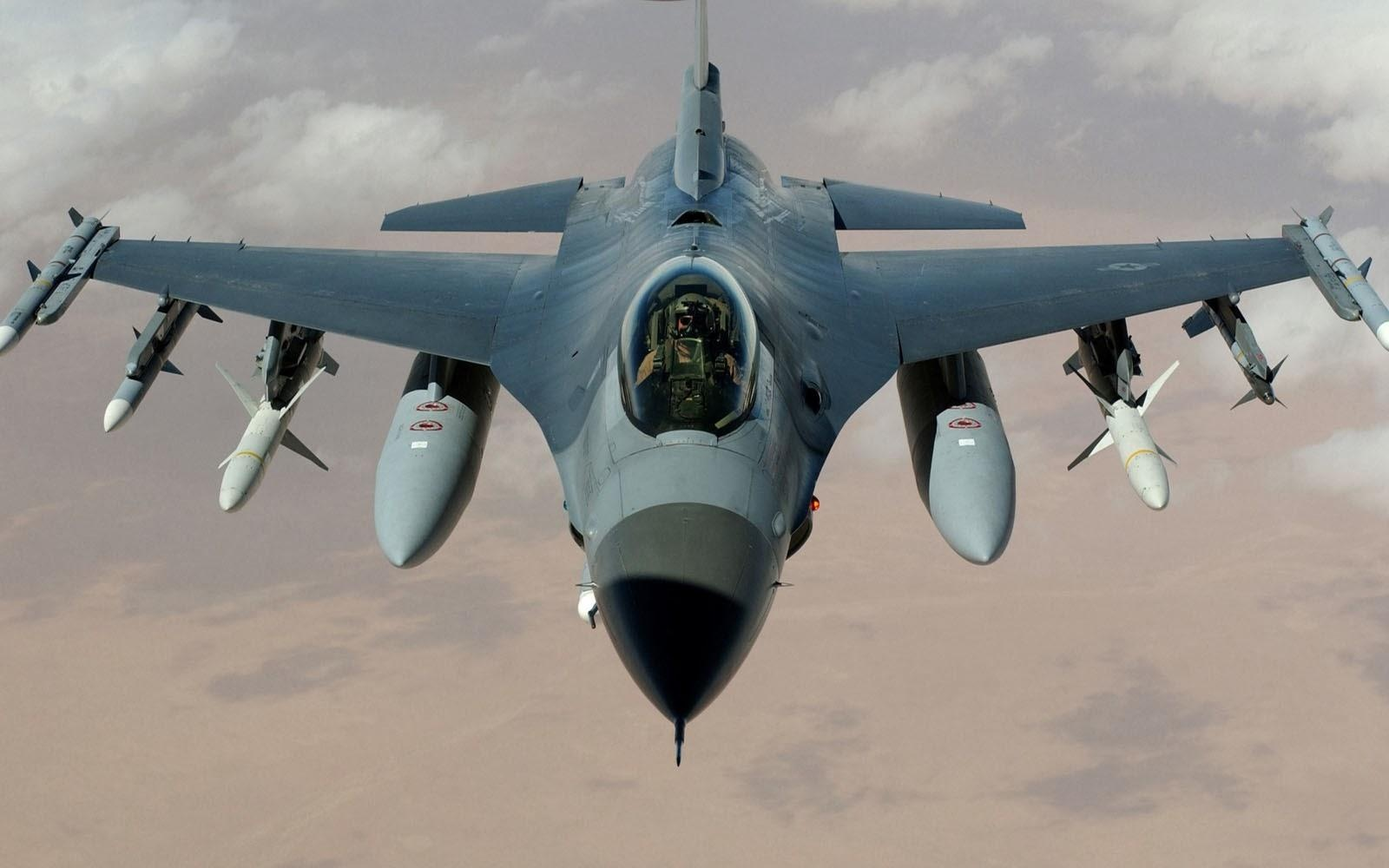aircraft: (3, 1, 1388, 749)
